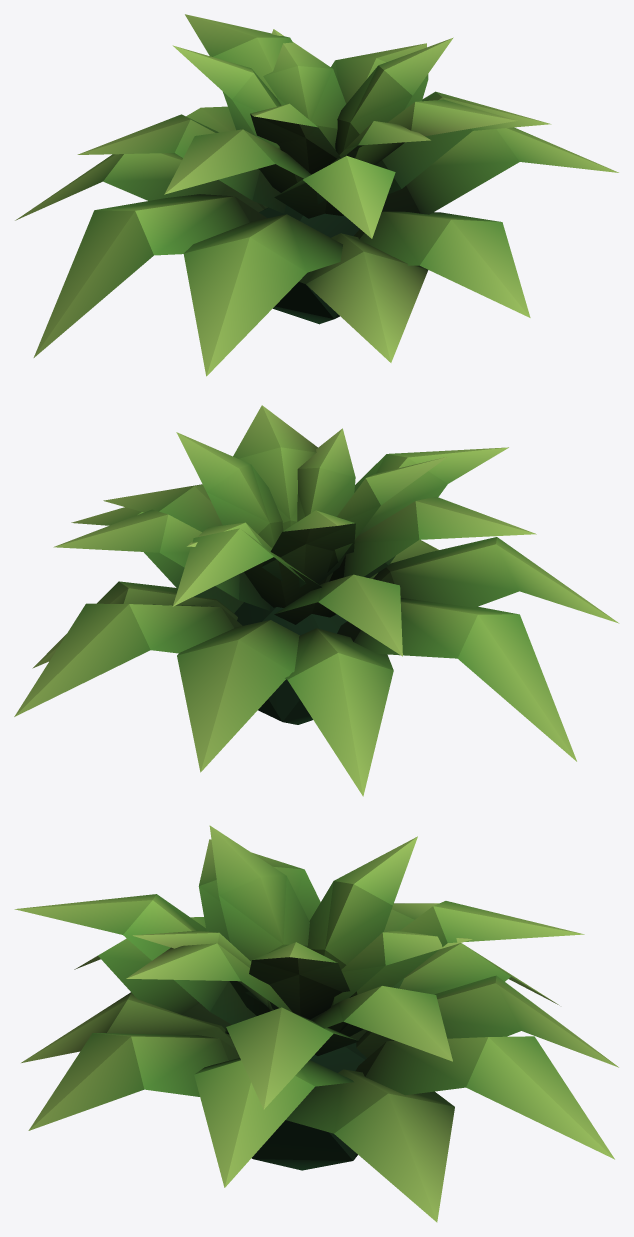
The model's file is deco-bush.glb.
The picture shows the model from 3 angles, top to bottom: view 1: azimuth 30°, elevation 25°; view 2: azimuth 150°, elevation 25°; view 3: azimuth 270°, elevation 25°; orthographic projection. The views are drawn at different scales.
Visible parts, largest first — view 1: 0_bush; view 2: 0_bush; view 3: 0_bush.
Boxes of the visible parts, box(x1,y1,x2,y2) form: 0_bush: box(15, 14, 618, 376); 0_bush: box(14, 405, 619, 796); 0_bush: box(14, 825, 618, 1222).
Bounding box in the file's own units: 2.01 × 0.9306 × 1.77.
